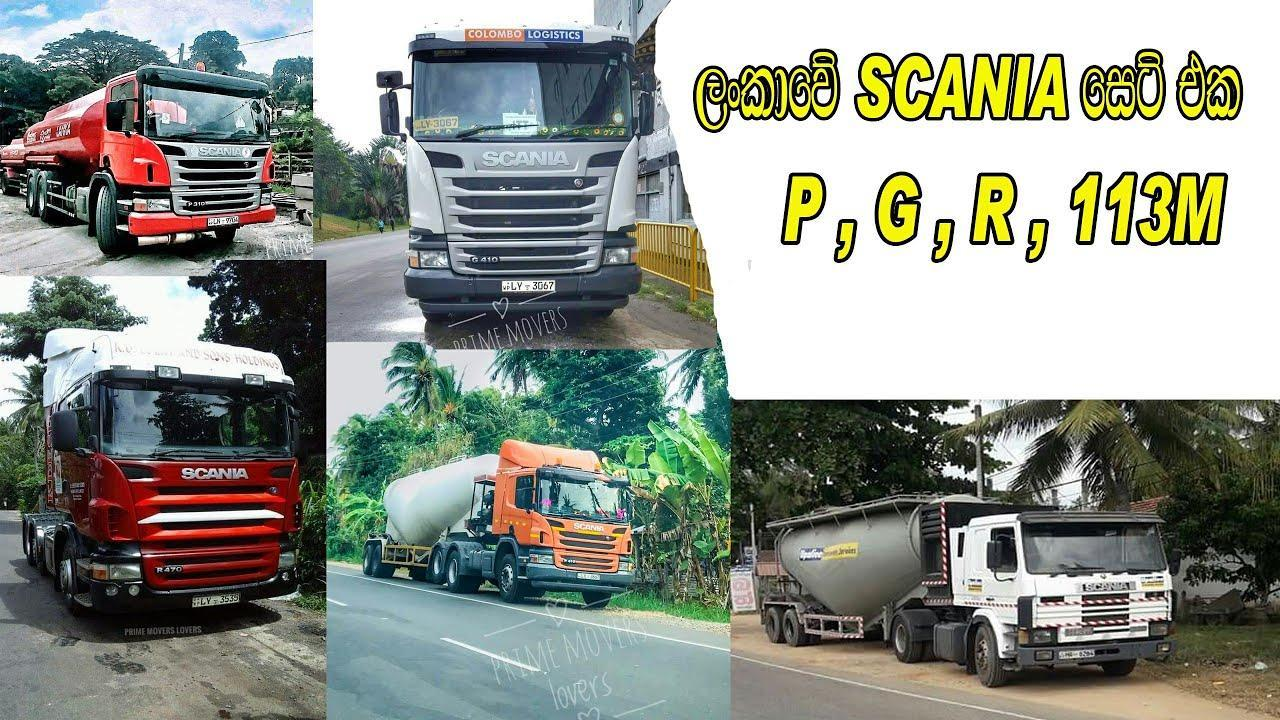truck: (19, 329, 303, 622), (759, 491, 1174, 689), (377, 21, 653, 318), (1, 64, 276, 258), (363, 439, 636, 609)
